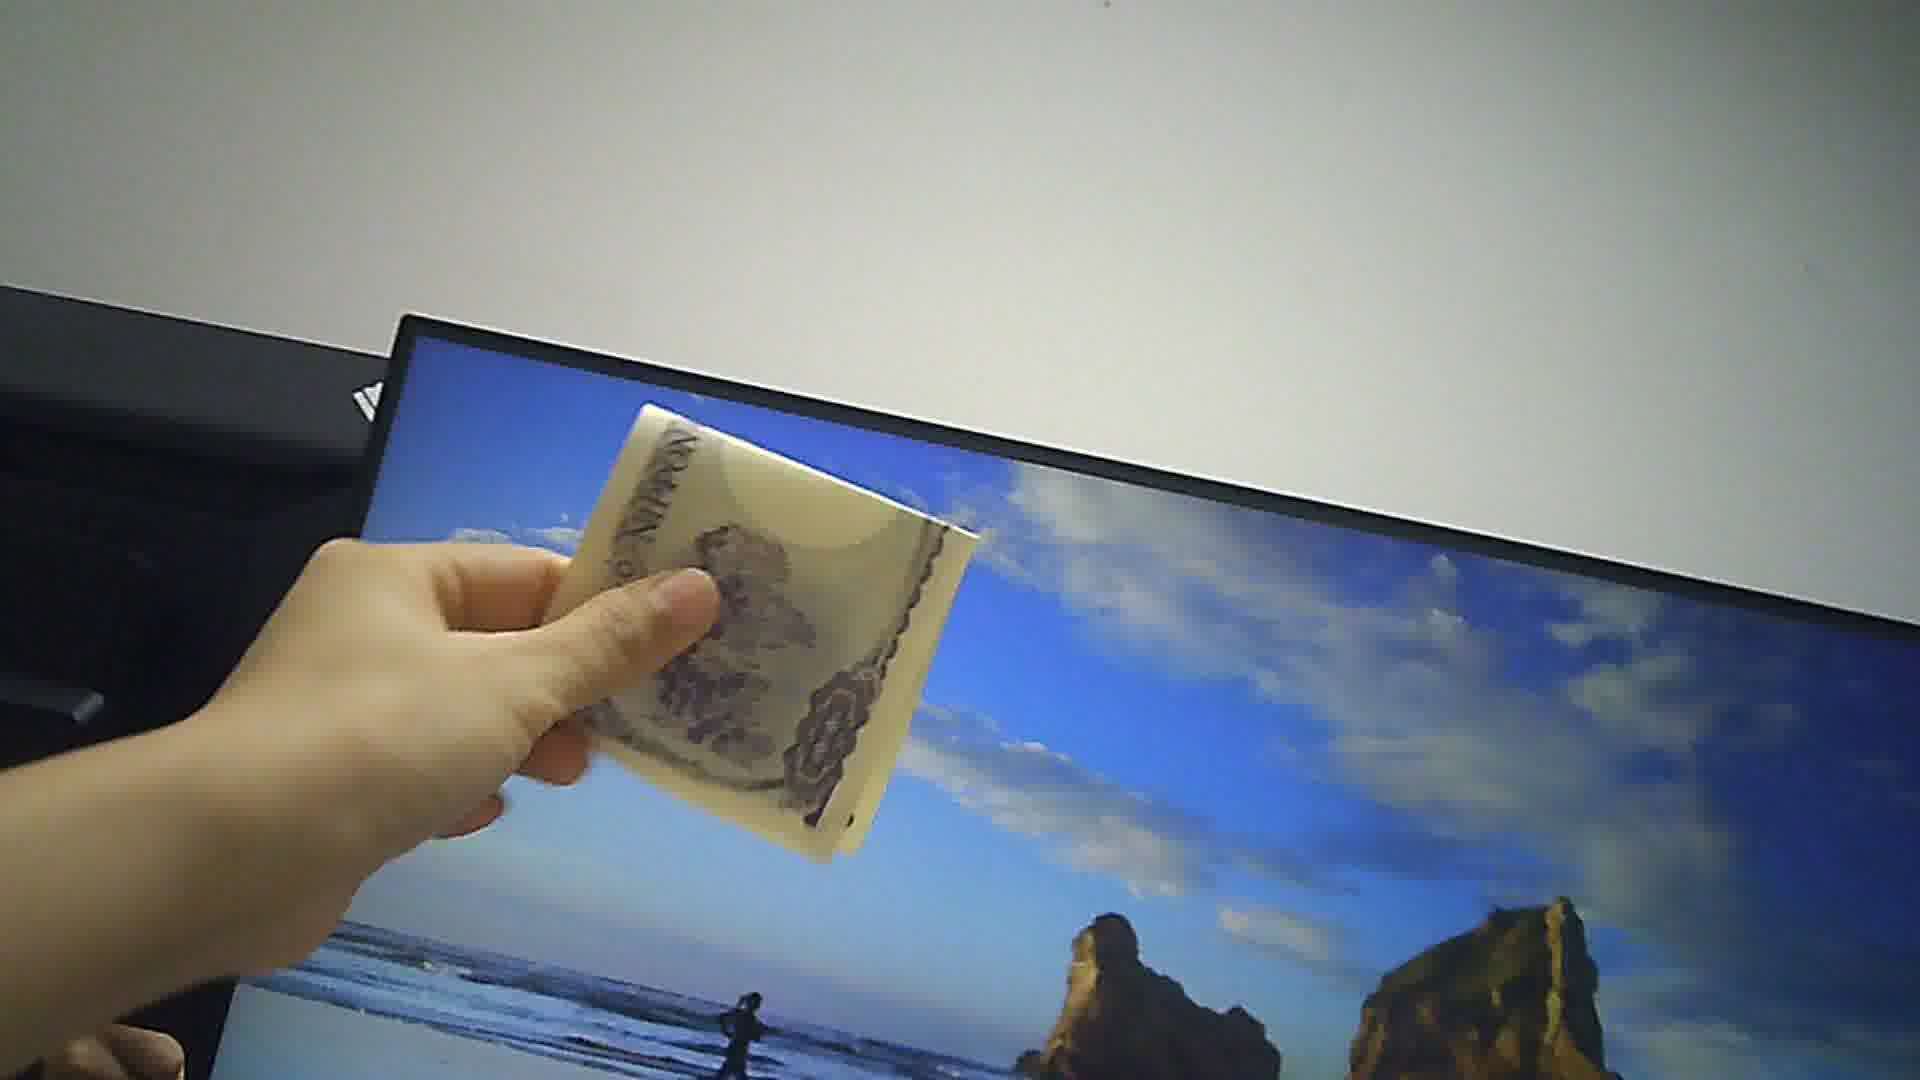5,000 Yen: (508, 386, 996, 905)
